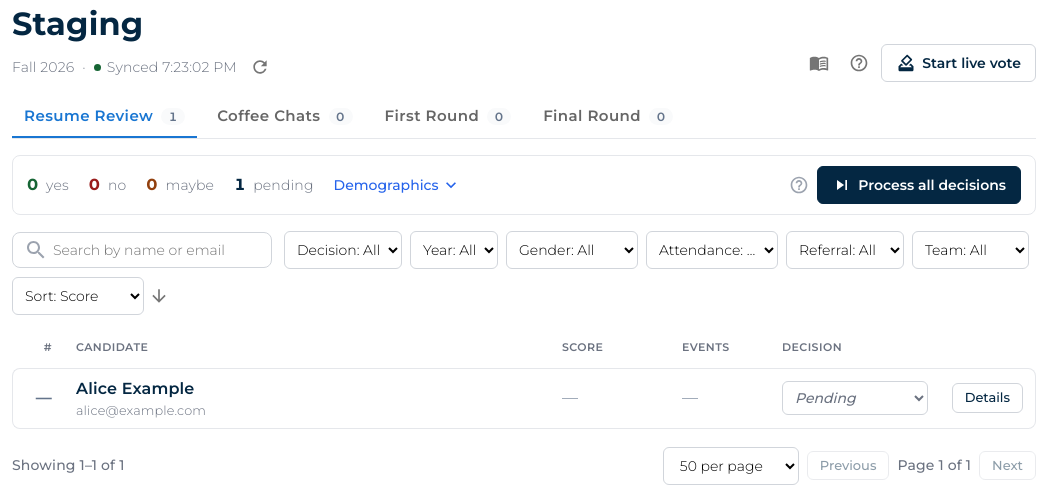
Staging sync › re-reads the snapshot as soon as the change token moves
This screenshot has width=1048, height=502.
Expected: the text "Alice Example" is shown, [76,376,206,400]
Click the button named "Refresh staging data".
click(260, 67)  # box [245,52,275,82]
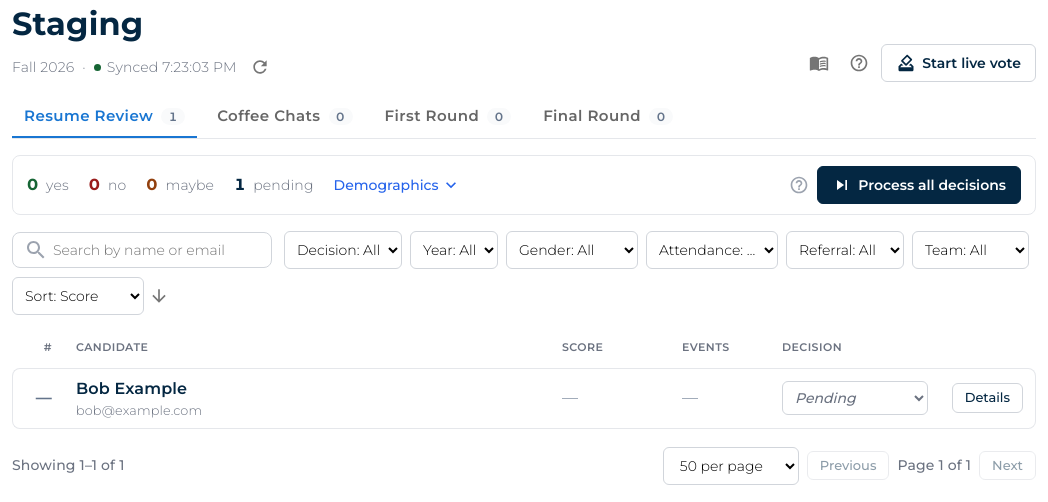
Expected: the text "Bob Example" is shown, [76,376,202,400]
